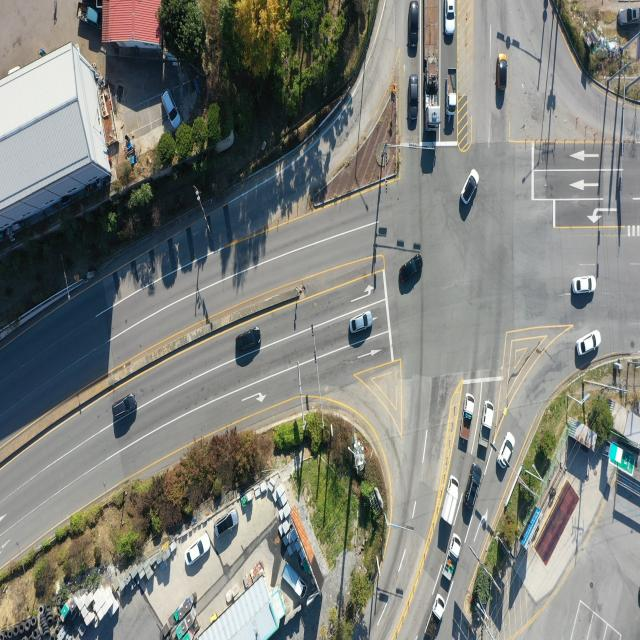car: (187, 536, 211, 569), (161, 92, 180, 132), (467, 466, 484, 510), (112, 393, 138, 420), (401, 254, 423, 284), (461, 170, 478, 207), (577, 332, 601, 358), (237, 331, 263, 355), (215, 512, 238, 539), (498, 432, 514, 470), (408, 0, 419, 49), (349, 312, 372, 335), (618, 7, 640, 26), (409, 76, 418, 122), (572, 276, 594, 294), (446, 0, 456, 35), (499, 56, 507, 91)
large_truck: (425, 0, 441, 126)
small_truck: (419, 592, 446, 640), (439, 472, 459, 525), (281, 562, 307, 598), (442, 534, 462, 580), (461, 395, 478, 440), (481, 399, 496, 444), (75, 1, 100, 26), (445, 67, 456, 114)
